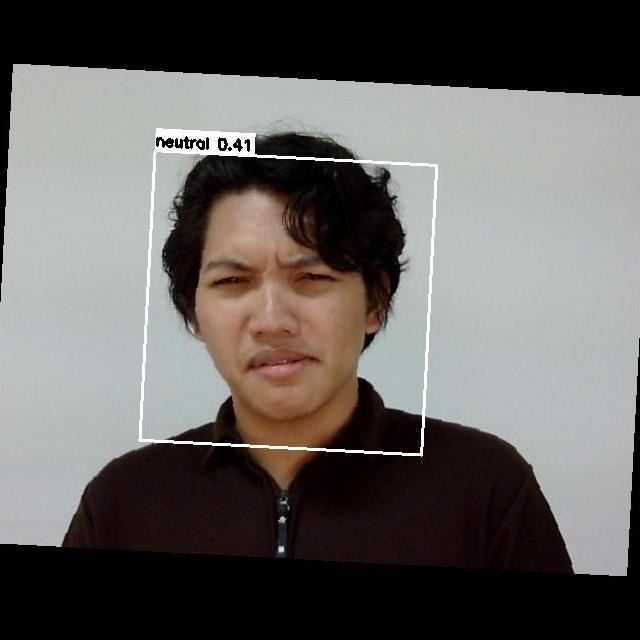Disgust: (182, 227, 384, 407)
